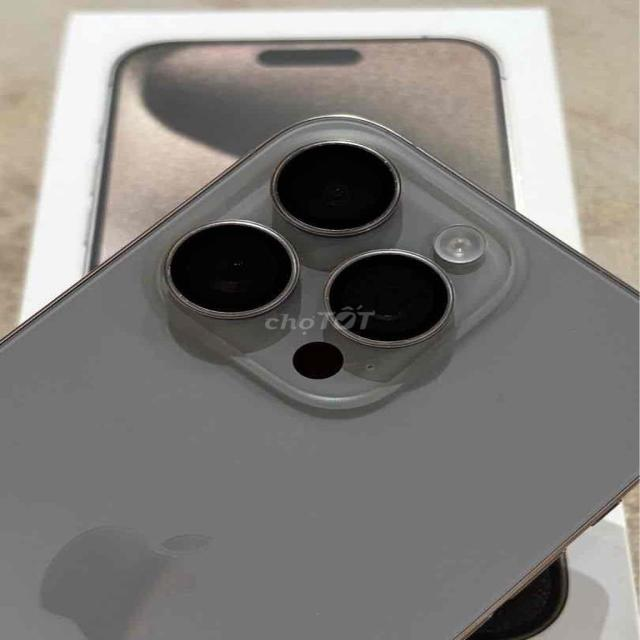gen_15: (6, 103, 634, 640)
